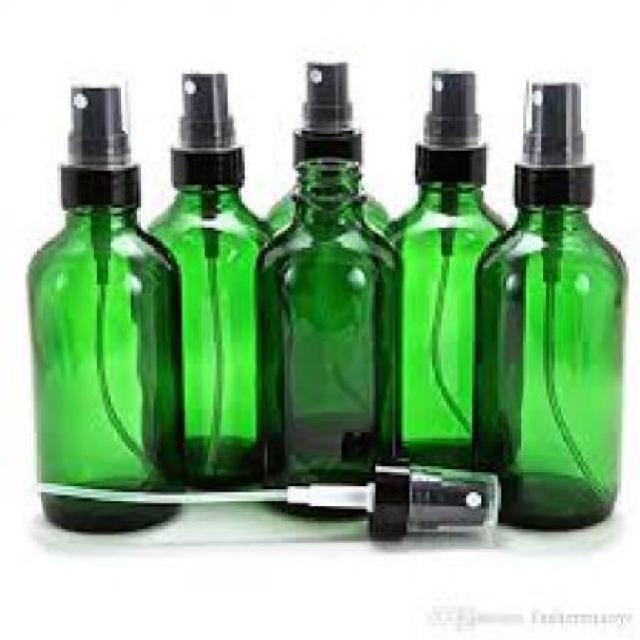kaca: (254, 154, 395, 520), (26, 202, 180, 536), (134, 182, 288, 489), (475, 202, 614, 529), (391, 182, 518, 476), (265, 166, 386, 240)
